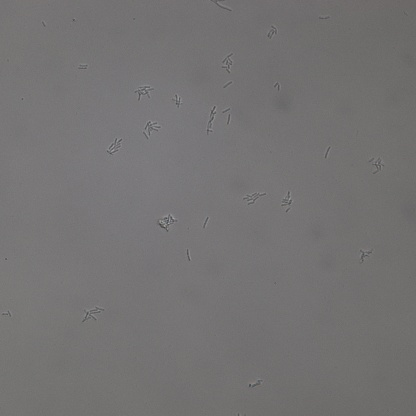R(colony): (242, 188, 267, 206), (82, 306, 104, 322), (143, 120, 161, 138), (158, 214, 175, 233), (133, 85, 153, 101), (368, 157, 385, 175), (280, 190, 293, 213), (205, 105, 215, 134), (107, 136, 123, 154), (221, 53, 234, 73), (358, 249, 372, 264), (247, 380, 262, 390), (172, 95, 183, 108), (267, 26, 276, 40), (273, 83, 280, 92)
